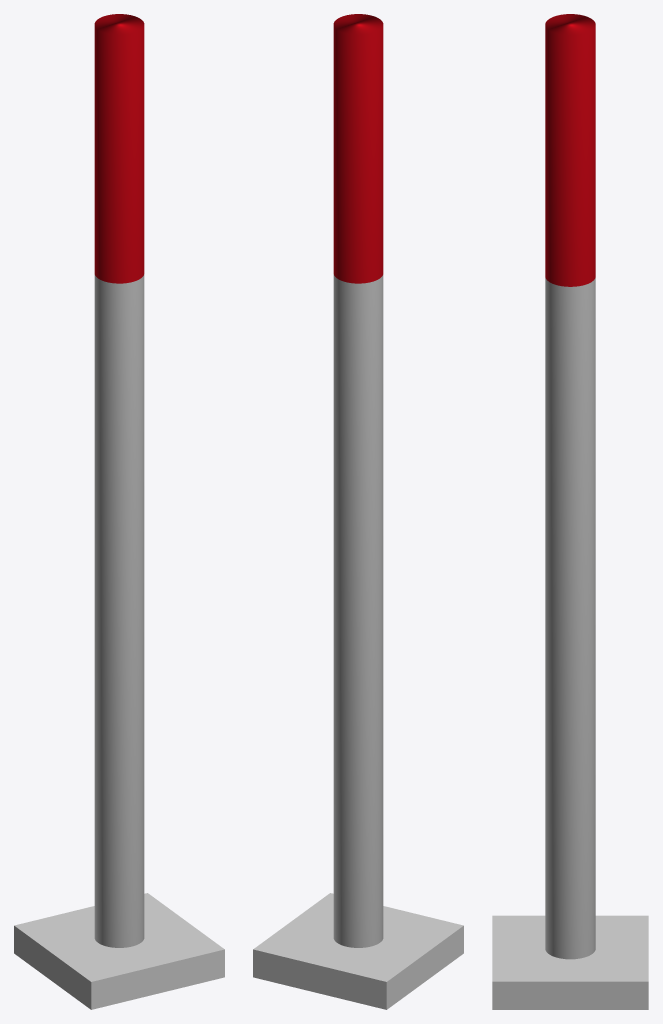
File: pole.dae
3 views of the same model, side by side, from view 1: azimuth 30°, elevation 25°; view 2: azimuth 150°, elevation 25°; view 3: azimuth 270°, elevation 25° (orthographic).
Visible parts, largest first — view 1: Plane; view 2: Plane; view 3: Plane.
Boxes of the visible parts, left/top/right/bottom form: Plane: left=14, top=14, right=224, bottom=1009; Plane: left=253, top=14, right=463, bottom=1009; Plane: left=492, top=14, right=648, bottom=1009.
Bounding box in the file's own units: 0.15 × 0.15 × 1.01.
